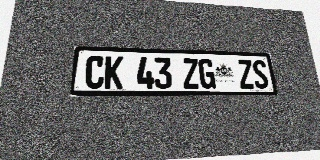3: (154, 57, 172, 89)
4: (137, 57, 154, 89)
C: (84, 55, 105, 89)
G: (198, 59, 216, 89)
K: (104, 56, 123, 89)
S: (251, 60, 270, 89)
Z: (182, 58, 200, 89), (237, 60, 255, 89)
